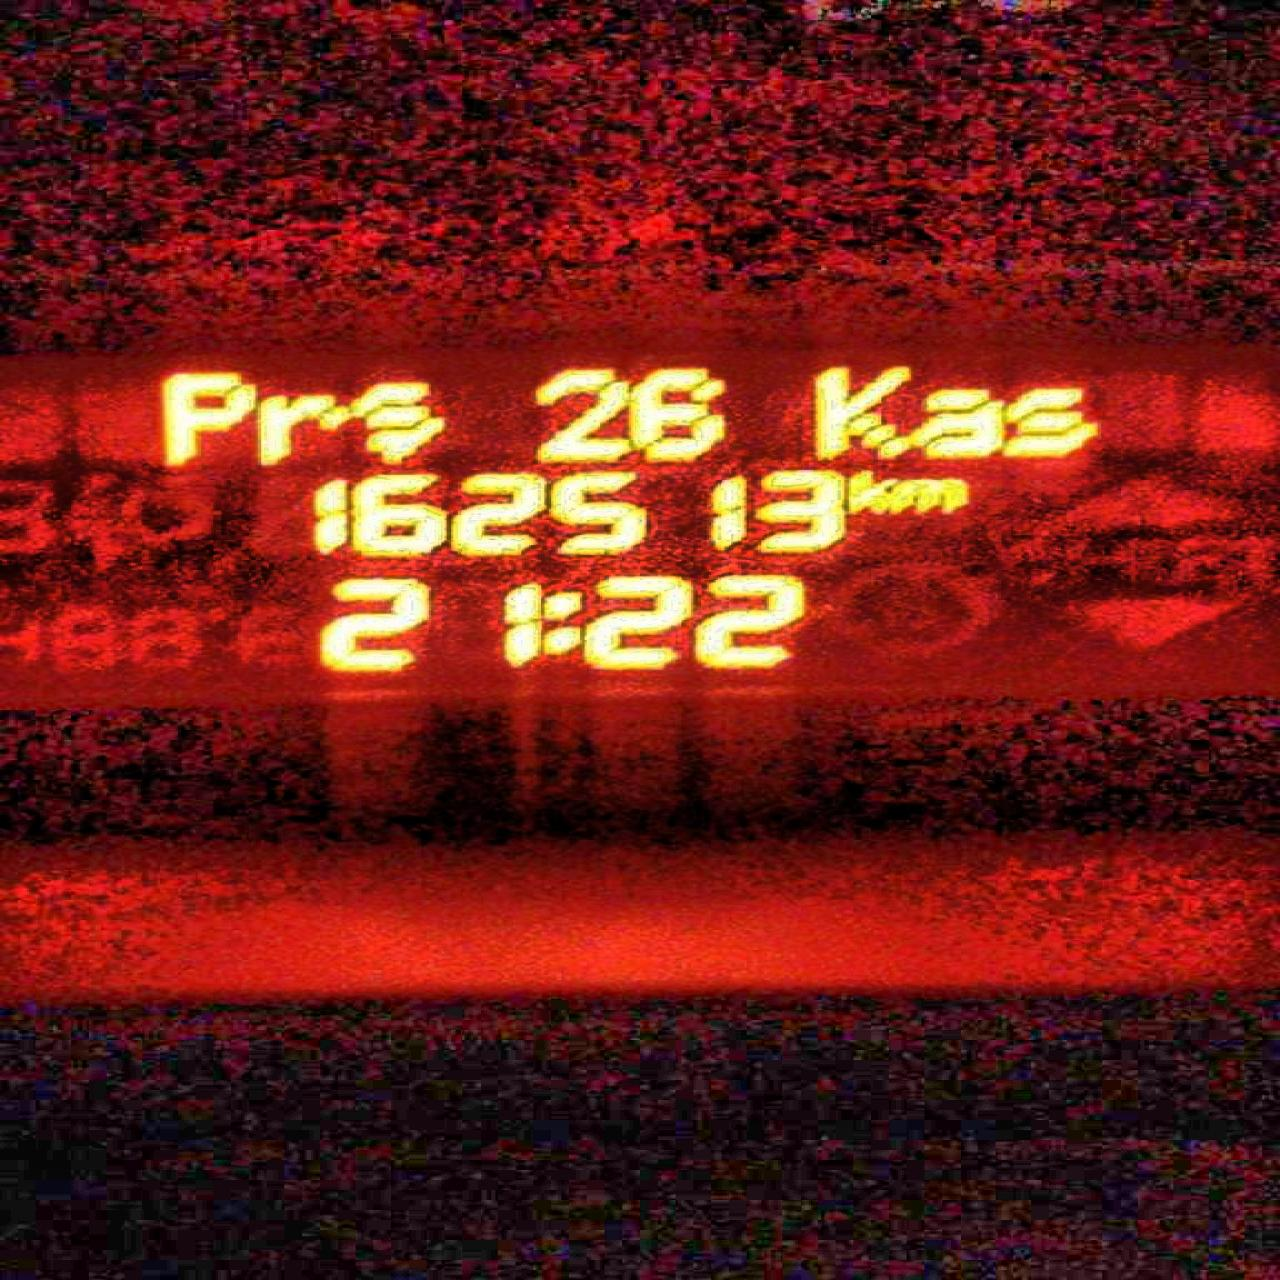1: (498, 580, 543, 666), (700, 472, 747, 551), (305, 476, 347, 554)
2: (689, 573, 806, 668), (315, 577, 429, 673), (578, 573, 693, 667), (527, 367, 629, 463), (447, 470, 545, 556)
3: (751, 469, 846, 552)
5: (547, 470, 649, 554)
6: (626, 368, 724, 462), (347, 471, 447, 558)
X: (809, 362, 911, 462), (158, 370, 258, 469), (349, 380, 444, 465), (251, 393, 349, 467), (1000, 384, 1098, 457), (907, 387, 1000, 458), (538, 590, 580, 656), (888, 477, 967, 512), (844, 469, 896, 513)
odometer: (7, 335, 1278, 707)
